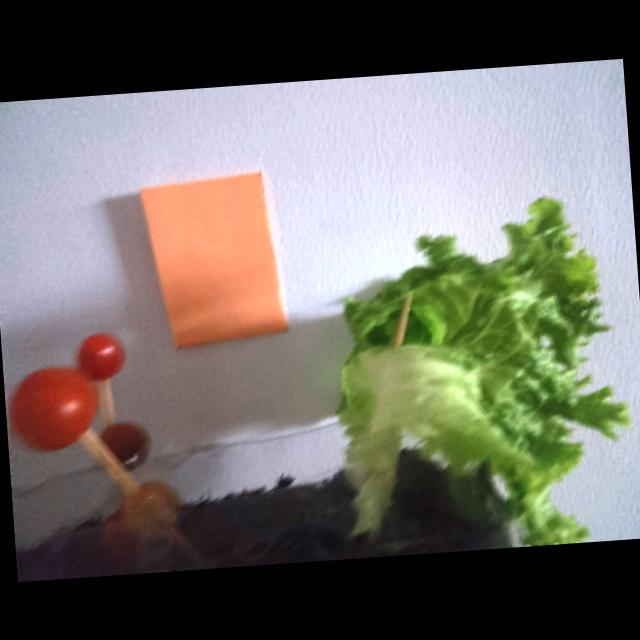card: (140, 173, 287, 348)
fruit_maturation: (119, 481, 178, 536)
fully_grown: (9, 335, 123, 451), (100, 423, 149, 469)
